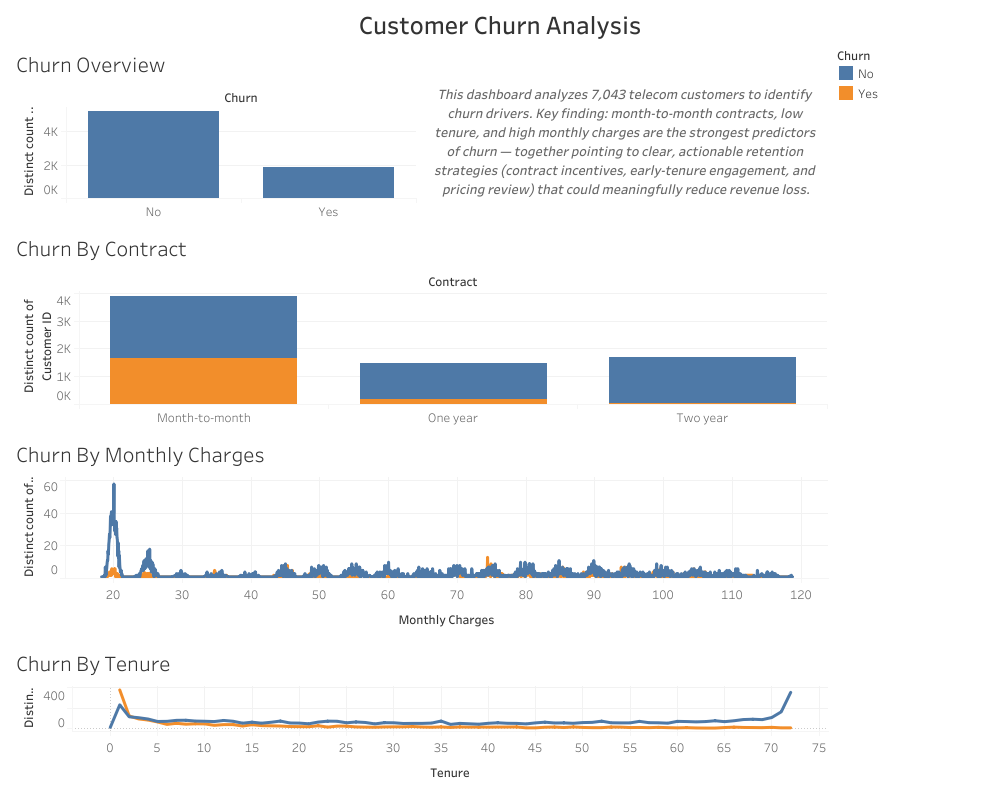

This screenshot's page, from the dashboard's own definition file:
{"tool":"tableau","page":{"name":"Customer Churn Analysis","canvas":[1000,800],"ordinal":0},"visuals":[{"type":"title","box":[8,8,984,32]},{"type":"worksheet","title":"Churn Overview","mark":"Automatic","rows":["customerID"],"cols":["Churn"],"box":[8,40,274.7,184.2]},{"type":"worksheet","title":"KPI Churn Rate","mark":"Automatic","box":[282.7,40,274.7,184.2]},{"type":"text","box":[557.3,40,274.7,184.2]},{"type":"legend","title":"Churn By Contract","param":"[federated.1xebmto04ucf2q1e3mrsn0tcjqlu].[none:Churn:nk]","box":[832,40,160,67]},{"type":"worksheet","title":"Churn By Contract","mark":"Automatic","rows":["customerID"],"cols":["Contract"],"box":[8,224.2,824,206.2]},{"type":"worksheet","title":"Churn By Monthly Charges","mark":"Automatic","rows":["customerID"],"cols":["Monthly Charges (bin)"],"box":[8,430.4,824,208.1]},{"type":"worksheet","title":"Churn By Tenure","mark":"Automatic","rows":["customerID"],"cols":["tenure"],"box":[8,638.5,824,153.5]}]}

Visuals, with their boxes in screenshot pixels (x1, y1, x2, y2), scaled from the page's 1000x800 canvas onto the 999x799 screenshot:
title: crop(8, 8, 991, 40)
"Churn Overview" worksheet: crop(8, 40, 282, 224)
"KPI Churn Rate" worksheet: crop(282, 40, 557, 224)
text: crop(557, 40, 831, 224)
"Churn By Contract" legend: crop(831, 40, 991, 107)
"Churn By Contract" worksheet: crop(8, 224, 831, 430)
"Churn By Monthly Charges" worksheet: crop(8, 430, 831, 638)
"Churn By Tenure" worksheet: crop(8, 638, 831, 791)
